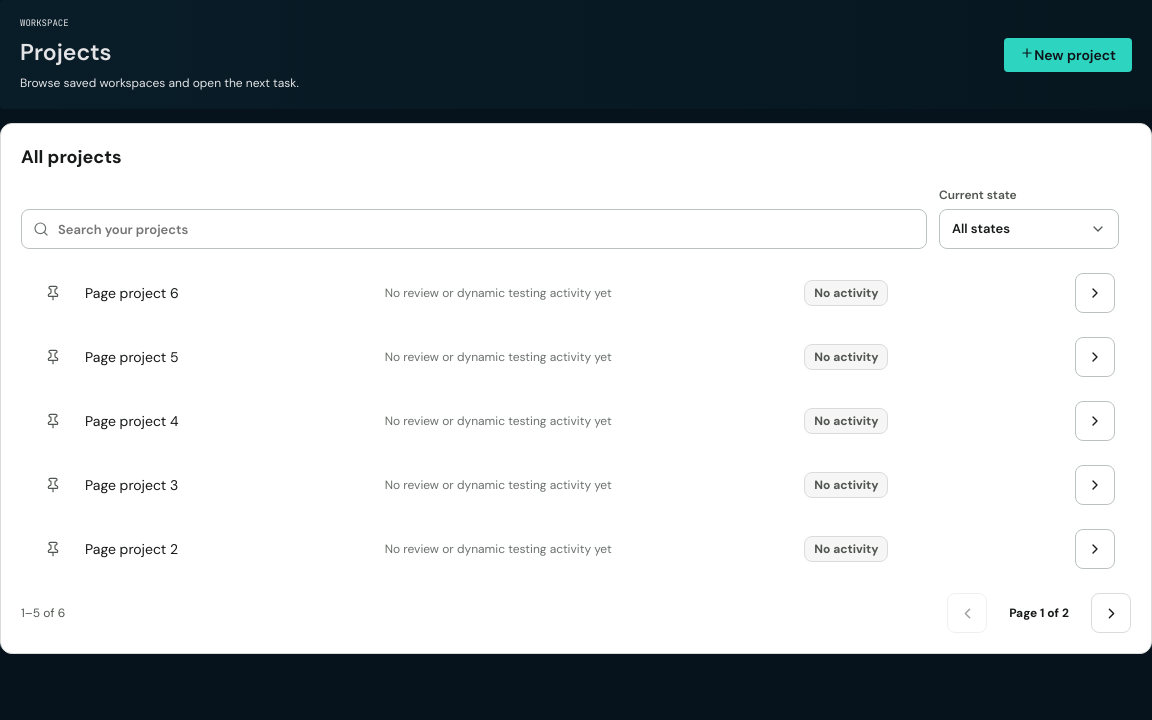
Scenario: Project directory › limits the directory to five rows per page without descriptions or removal controls
The width and height of the screenshot is (1152, 720).
Expected: the text "1–5 of 6" is shown, [21,604,65,622]
Expected: the table named "Projects" does not show "Private description 1", [21,261,1131,581]
Click the button named "Next project page".
click(1111, 613)  # box [1091,593,1131,633]
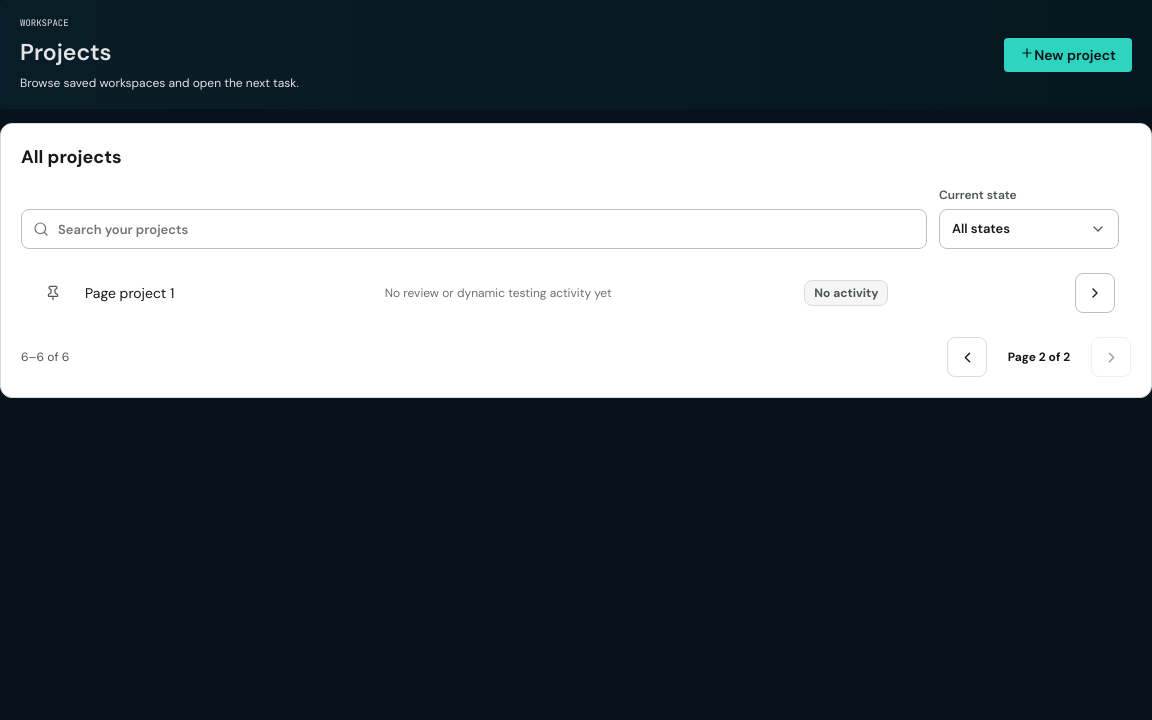
Now the text "6–6 of 6" is shown, box [21,348,69,366]
